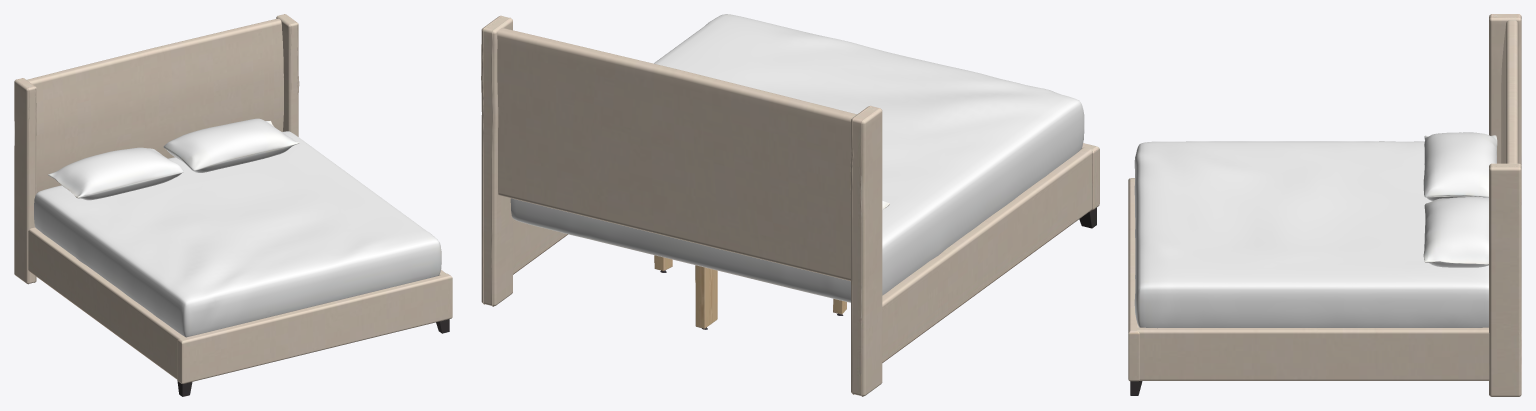
The model's file is bed-king-upholstered.glb.
3 views of the same model, side by side, from view 1: azimuth 30°, elevation 25°; view 2: azimuth 150°, elevation 25°; view 3: azimuth 270°, elevation 25° (orthographic). The views are drawn at different scales.
Parts seen in each view (by area): view 1: RootNode; view 2: RootNode; view 3: RootNode.
Part boxes in pixels (x1=…): RootNode: x1=14, y1=14, x2=452, y2=396; RootNode: x1=481, y1=14, x2=1099, y2=396; RootNode: x1=1128, y1=14, x2=1521, y2=396.
Bounding box in the file's own units: 2.14 × 1.47 × 2.28.
Materials: 1 (1 with a texture image).
